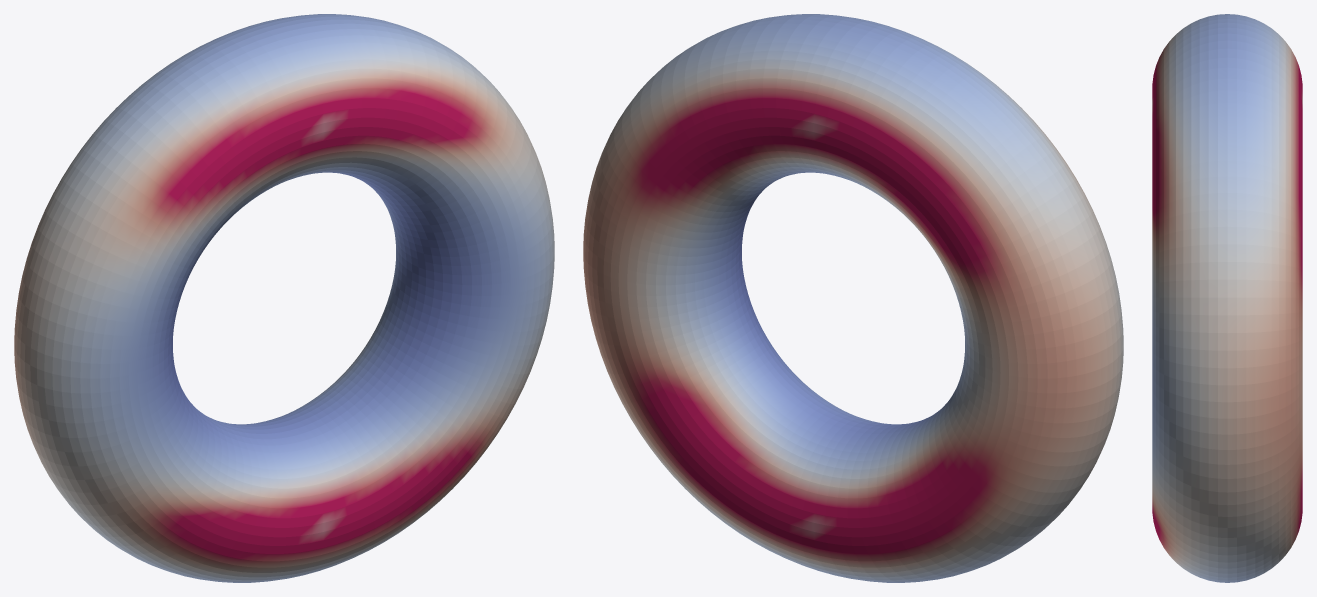
The picture shows the model from 3 angles, left to right: view 1: azimuth 30°, elevation 25°; view 2: azimuth 150°, elevation 25°; view 3: azimuth 270°, elevation 25°; orthographic projection. The views are drawn at different scales.
Visible parts, largest first — view 1: world; view 2: world; view 3: world.
Boxes of the visible parts, x1,y1,x2,y2 form: world: (14,14,554,582); world: (583,14,1123,582); world: (1152,14,1302,582).
Bounding box in the file's own units: 22.67 × 22.67 × 5.99.
